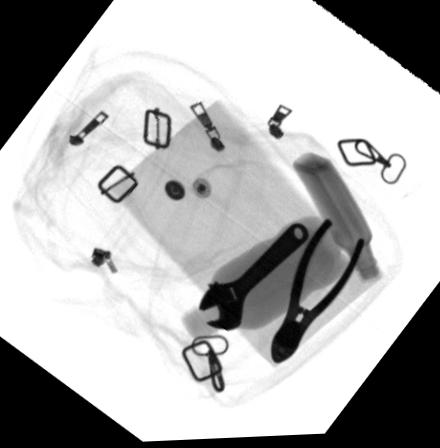Pliers: (269, 220, 365, 365)
Wrench: (199, 224, 308, 333)
